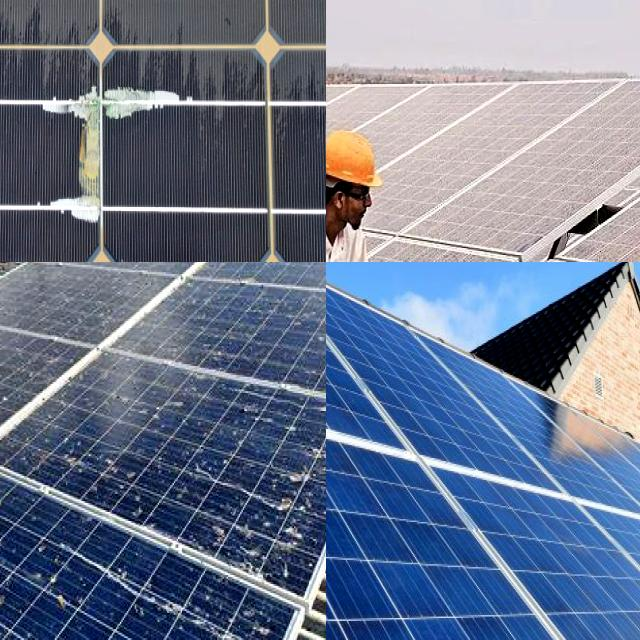bird: (252, 440, 316, 510), (112, 563, 174, 630), (66, 424, 127, 484), (212, 506, 267, 572), (201, 600, 278, 640), (0, 481, 48, 545), (29, 552, 78, 610), (136, 380, 194, 421), (0, 535, 19, 592)
crack: (326, 262, 640, 640)
dust: (427, 130, 551, 236), (358, 86, 492, 120), (326, 84, 374, 171), (507, 82, 593, 126), (326, 84, 365, 171), (392, 150, 422, 230), (563, 142, 610, 186), (625, 78, 640, 141), (326, 90, 355, 122)
shadow: (11, 68, 203, 252)
